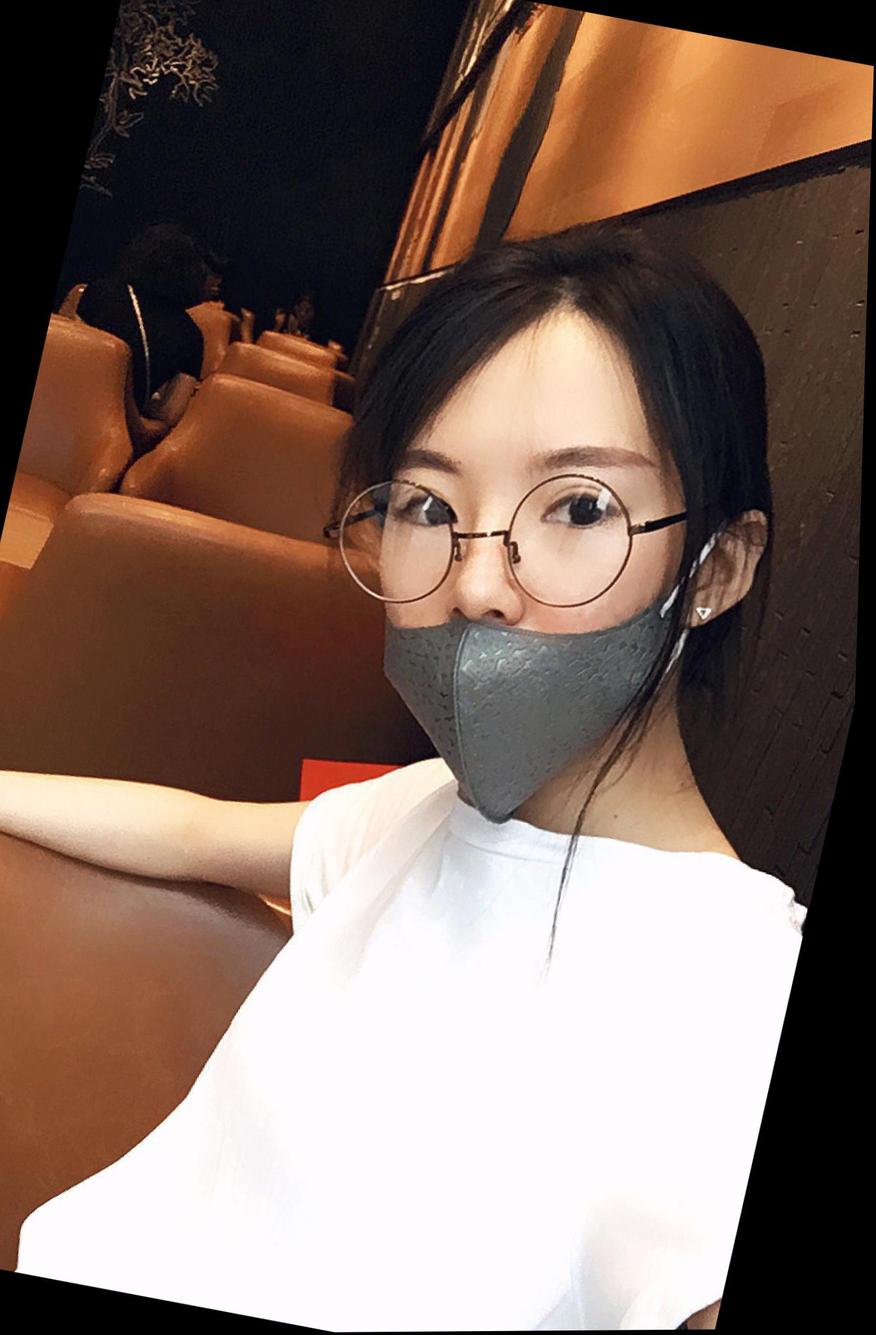WRONG: (321, 357, 710, 809)
